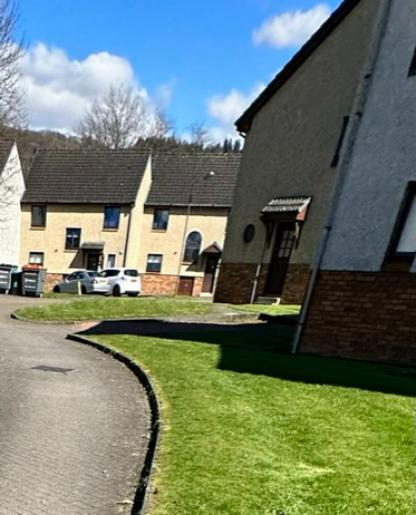car: (98, 259, 148, 297), (53, 267, 106, 302)
